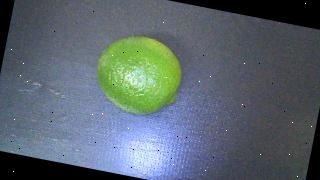EXPORTACION: (90, 29, 187, 121)
